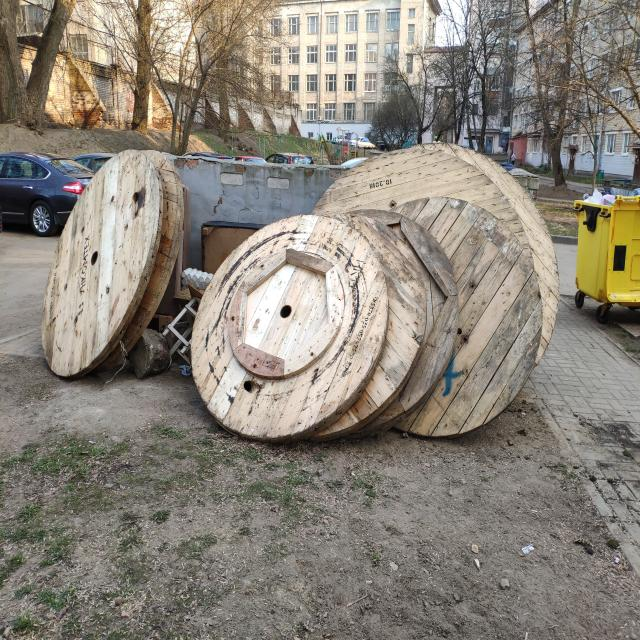entulho: (312, 139, 560, 439), (190, 213, 392, 443), (40, 148, 189, 378)
lixo domiciliar: (584, 188, 618, 208)
